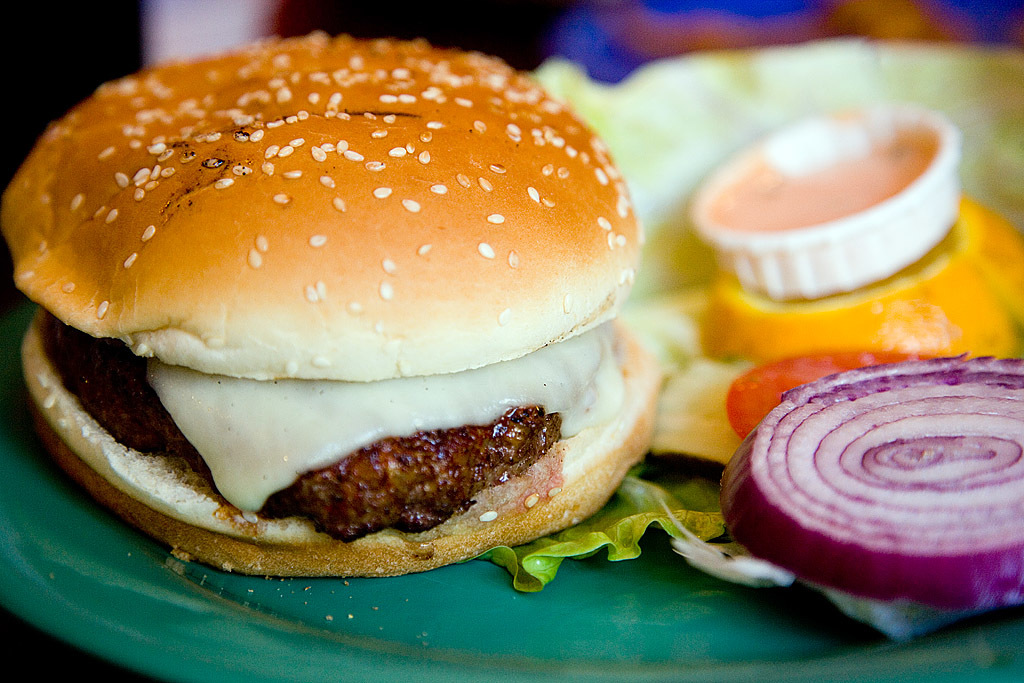Hamburger: (0, 31, 668, 580)
